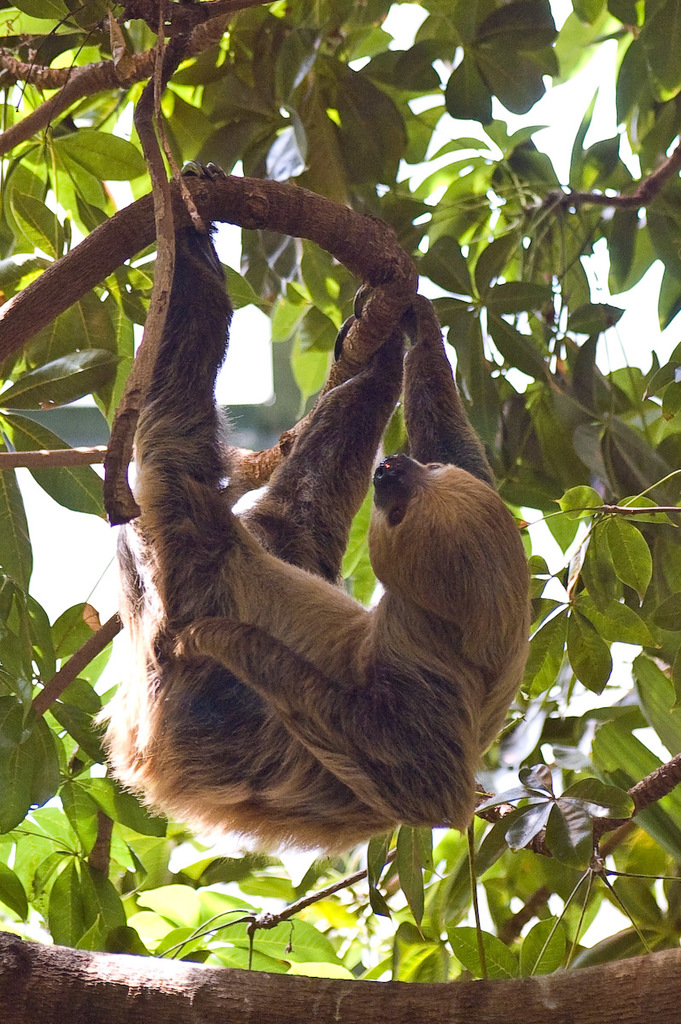Animal: (91, 151, 534, 855)
